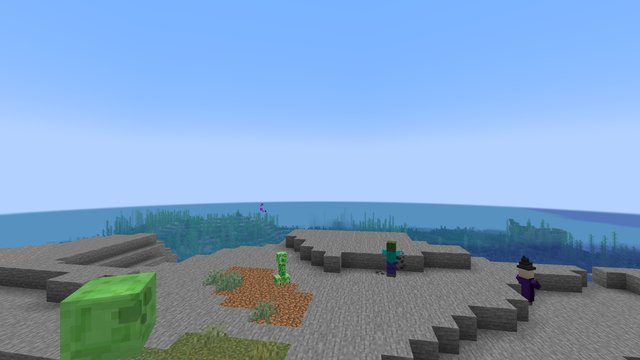creepers: (274, 249, 288, 284)
slimes: (54, 270, 163, 356)
sorcieres: (516, 264, 535, 305)
zombies: (385, 241, 396, 278)
